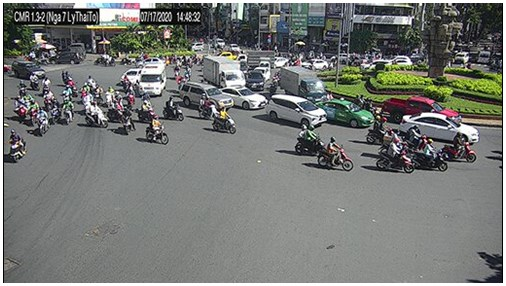xe_ban_tai: (382, 95, 462, 127)
xe_cuu_thuong: (140, 64, 168, 96)
xe_hoi: (401, 112, 479, 145), (268, 94, 327, 128), (317, 100, 375, 129), (179, 81, 234, 111), (219, 84, 267, 110), (11, 60, 46, 79), (301, 58, 328, 71), (360, 60, 392, 70)
xe_may: (376, 139, 415, 175), (318, 137, 354, 172), (412, 139, 449, 172), (295, 124, 329, 157), (442, 133, 477, 163), (401, 125, 436, 152), (367, 117, 399, 144), (144, 115, 170, 146), (211, 107, 236, 136), (7, 129, 27, 164), (84, 102, 109, 130), (162, 96, 185, 122), (196, 96, 220, 120), (136, 101, 159, 124), (13, 94, 28, 123), (36, 108, 50, 138), (122, 106, 136, 136), (60, 71, 78, 93), (62, 97, 76, 125), (48, 96, 61, 125), (59, 83, 73, 103), (80, 80, 91, 104), (126, 87, 137, 111), (28, 71, 40, 91), (105, 84, 114, 108), (42, 76, 52, 97), (93, 83, 103, 104), (268, 77, 278, 98), (91, 54, 107, 67), (17, 79, 27, 98), (121, 75, 132, 91), (119, 54, 132, 66), (184, 62, 191, 80), (173, 63, 180, 78)
xe_tai: (202, 55, 246, 89), (237, 49, 275, 70)
